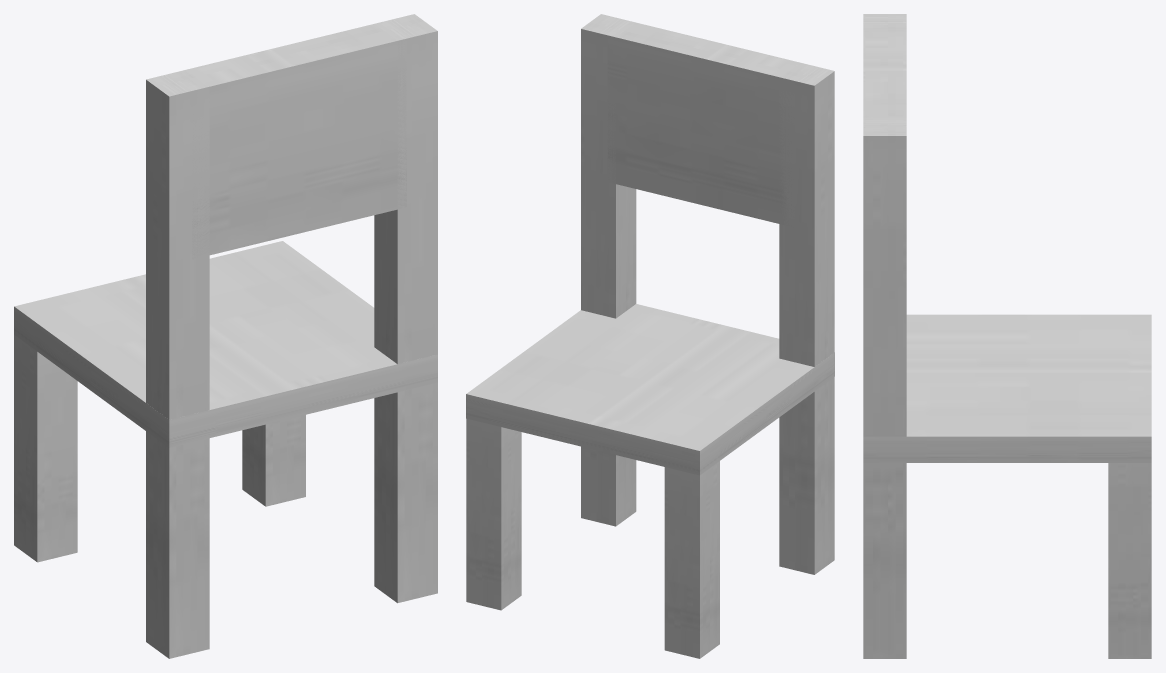
File: bangku_putih.gltf
3 views of the same model, side by side, from view 1: azimuth 30°, elevation 25°; view 2: azimuth 150°, elevation 25°; view 3: azimuth 270°, elevation 25° (orthographic). The views are drawn at different scales.
Visible parts, largest first — view 1: Cube, Cube.005, Cube.003, Cube.002, Cube.004, Cube.001; view 2: Cube, Cube.005, Cube.003, Cube.002, Cube.004, Cube.001; view 3: Cube, Cube.002, Cube.001, Cube.005, Cube.003.
Boxes of the visible parts, x1,y1,x2,y2 form: Cube: [14, 241, 437, 447]; Cube.005: [186, 24, 406, 259]; Cube.003: [146, 70, 209, 658]; Cube.002: [374, 14, 437, 603]; Cube.004: [14, 335, 77, 562]; Cube.001: [242, 415, 305, 506]; Cube: [466, 304, 834, 475]; Cube.005: [607, 22, 799, 226]; Cube.003: [779, 62, 834, 574]; Cube.002: [581, 14, 636, 526]; Cube.004: [664, 461, 719, 658]; Cube.001: [466, 418, 521, 610]; Cube: [863, 314, 1151, 462]; Cube.002: [863, 117, 906, 658]; Cube.001: [1108, 463, 1151, 658]; Cube.005: [863, 32, 906, 117]; Cube.003: [863, 14, 906, 32].
Size of the model in its own units: 1 by 2 by 1.
Materials: 6 (6 with a texture image).
